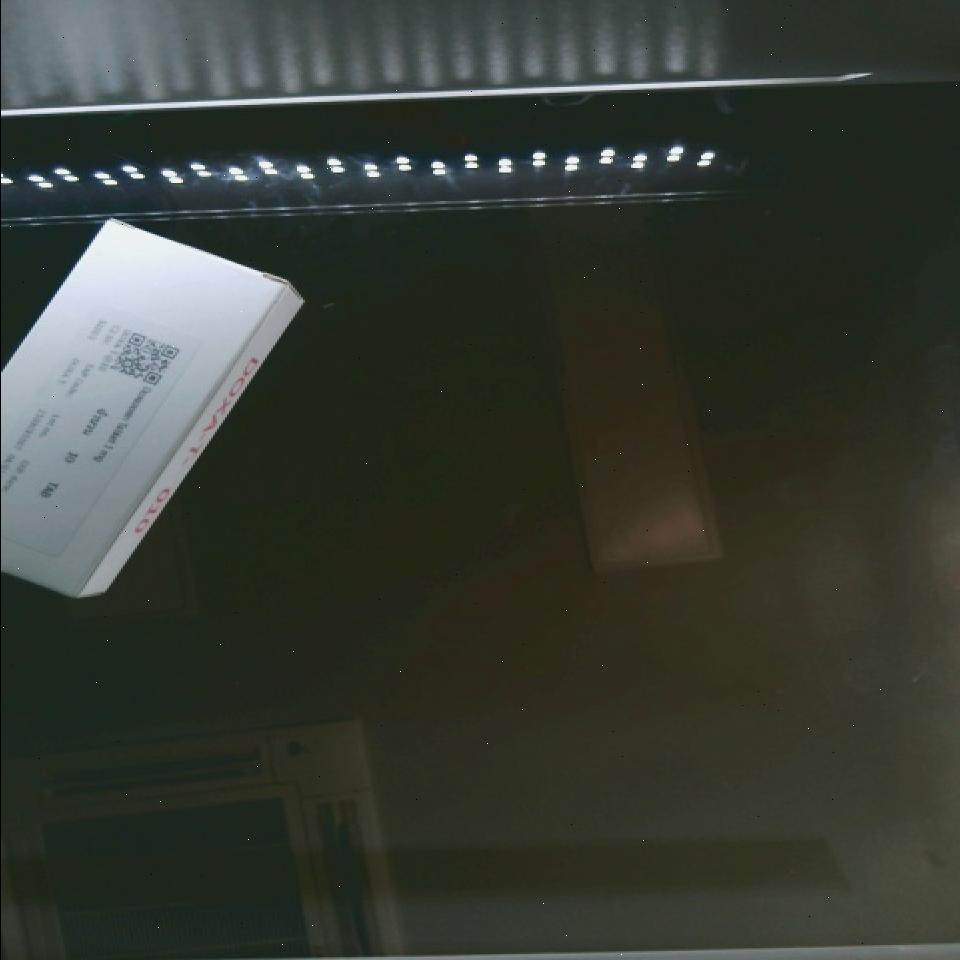medicine_box: (0, 180, 289, 611)
qr_code: (81, 303, 204, 412)
